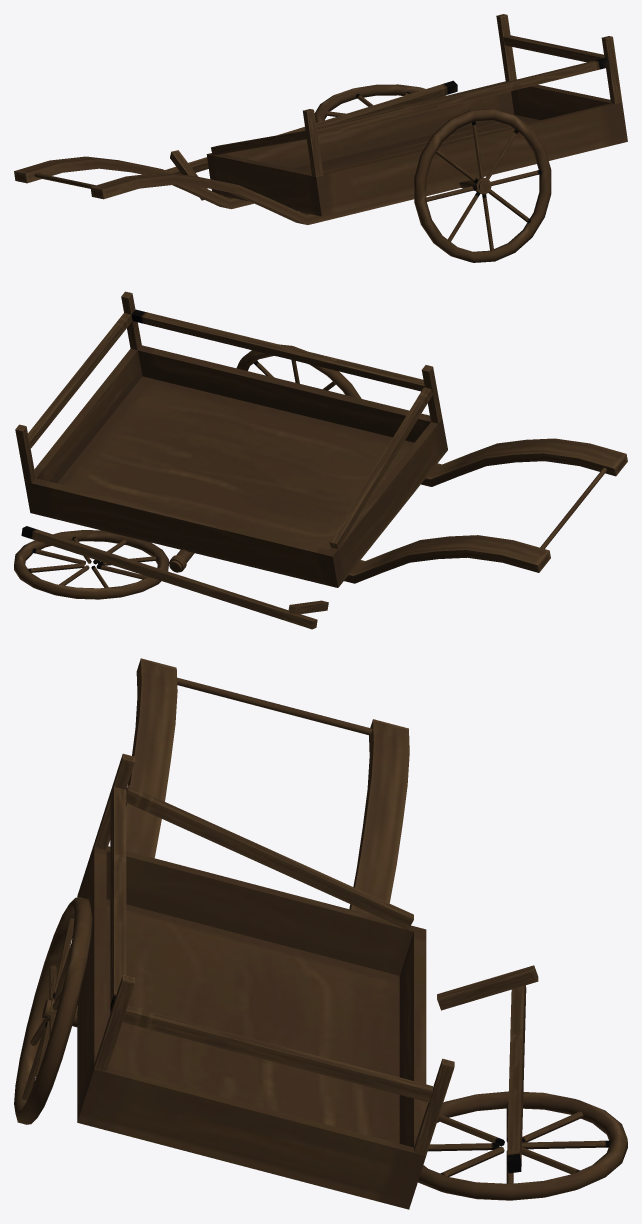
The model's file is BrokenCart_Geo.fbx.
3 views of the same model, one above another, from view 1: azimuth 30°, elevation 25°; view 2: azimuth 150°, elevation 25°; view 3: azimuth 270°, elevation 25° (orthographic). The views are drawn at different scales.
Visible parts, largest first — view 1: BrokenCart_Geo; view 2: BrokenCart_Geo; view 3: BrokenCart_Geo.
Boxes of the visible parts, left/top/right/bottom form: BrokenCart_Geo: left=14, top=14, right=627, bottom=262; BrokenCart_Geo: left=14, top=291, right=627, bottom=629; BrokenCart_Geo: left=14, top=658, right=627, bottom=1209.
Bounding box in the file's own units: 291 × 92.33 × 202.
